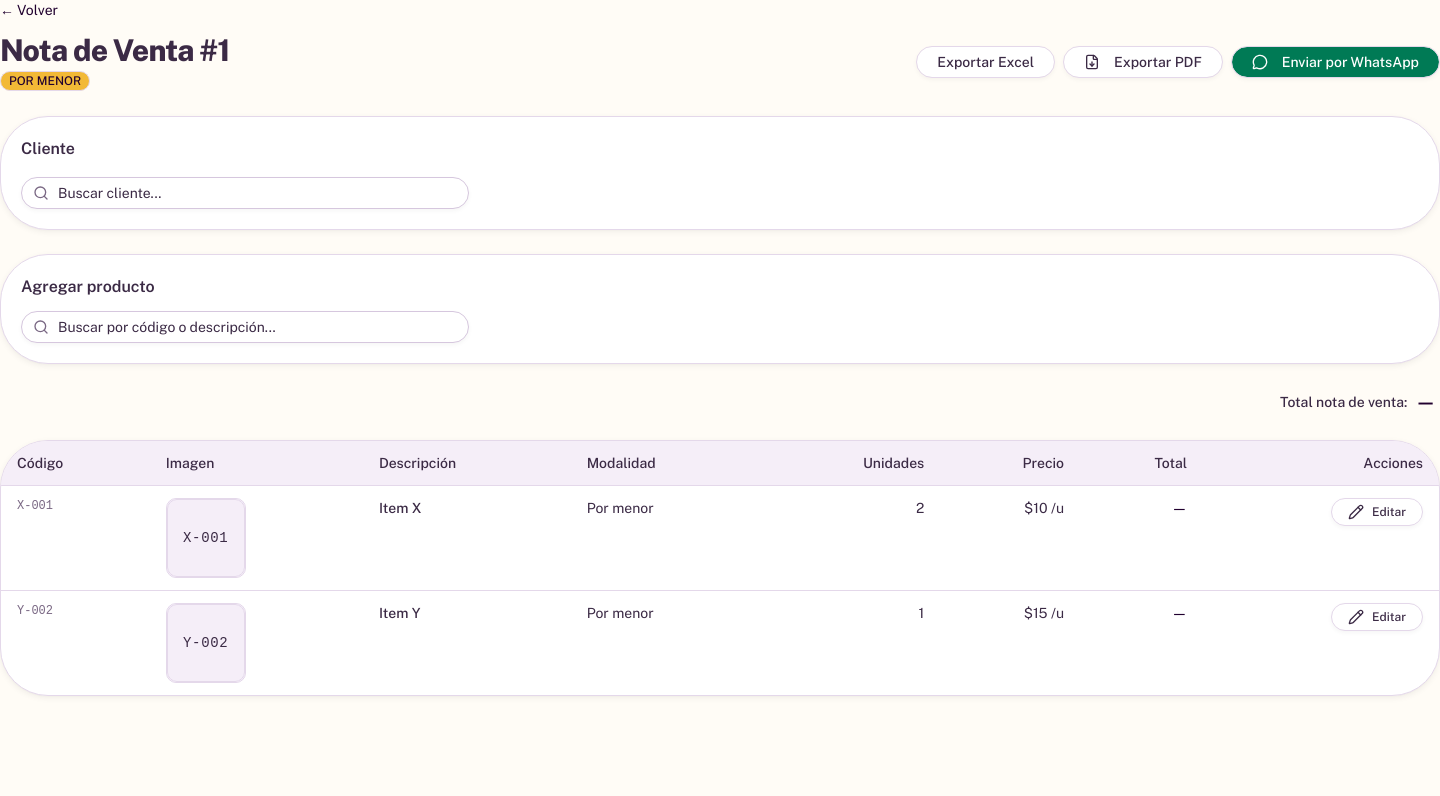
Test case: eliminarItem — online › eliminar hace fetch(DELETE) con el UUID y el ítem desaparece de la UI
Click the button "Editar" in the row of "Item X". click: (1377, 512)
box: [1331,498,1423,526]
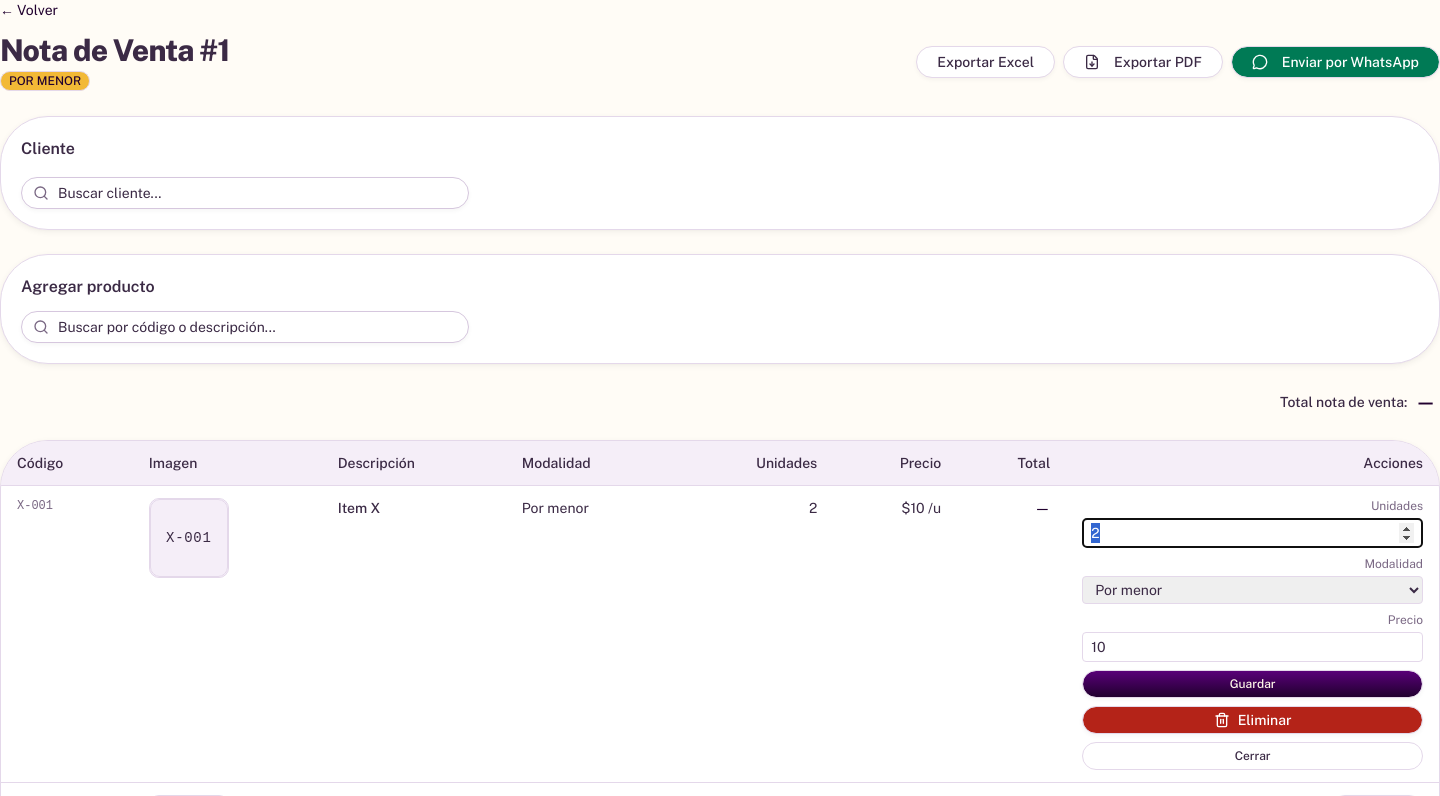
Click the button "Eliminar". click: (1253, 720)
box: [1082,706,1423,734]
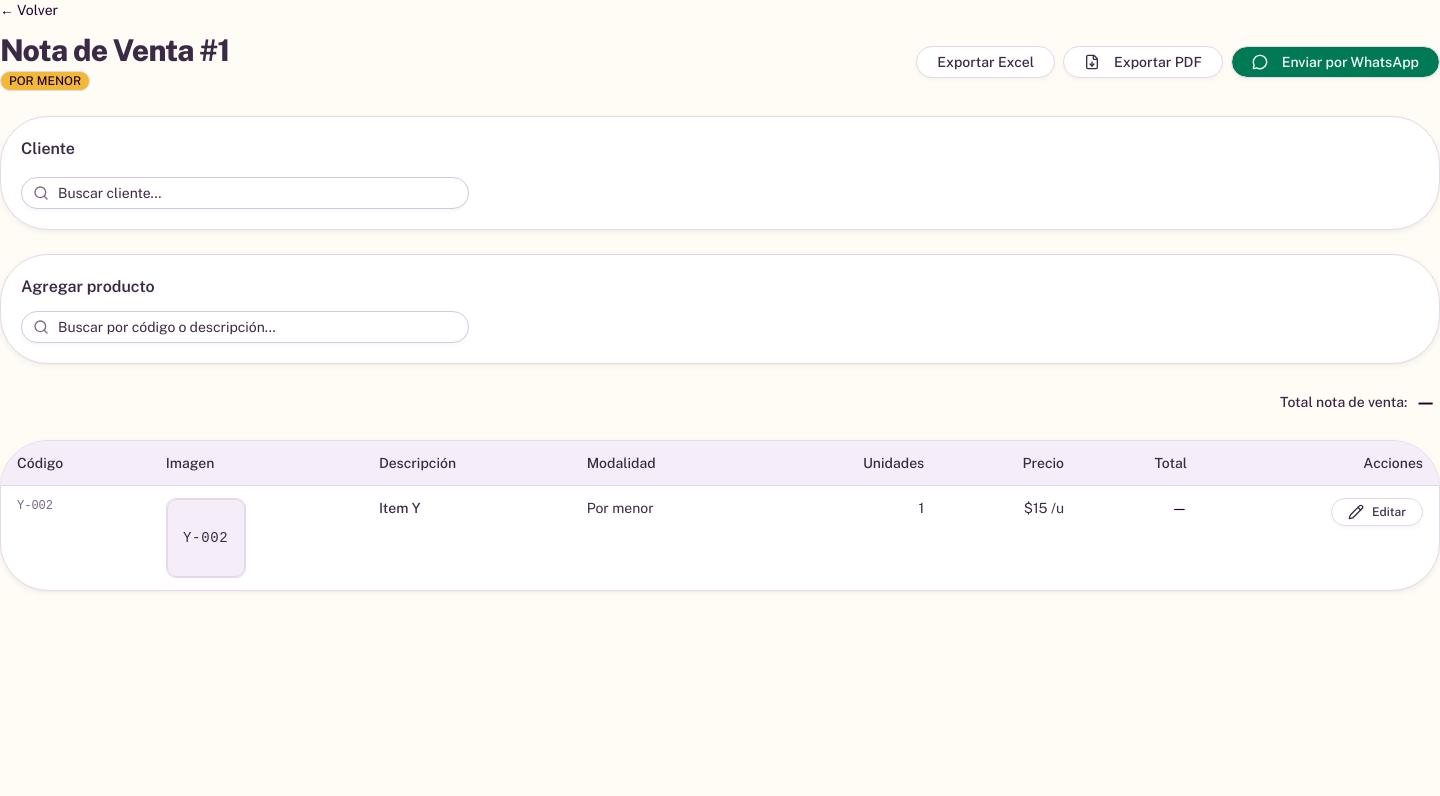
Expected: the 1st text "Y-002" is shown, [1,486,150,590]
Expected: the text "X-001" is not shown
